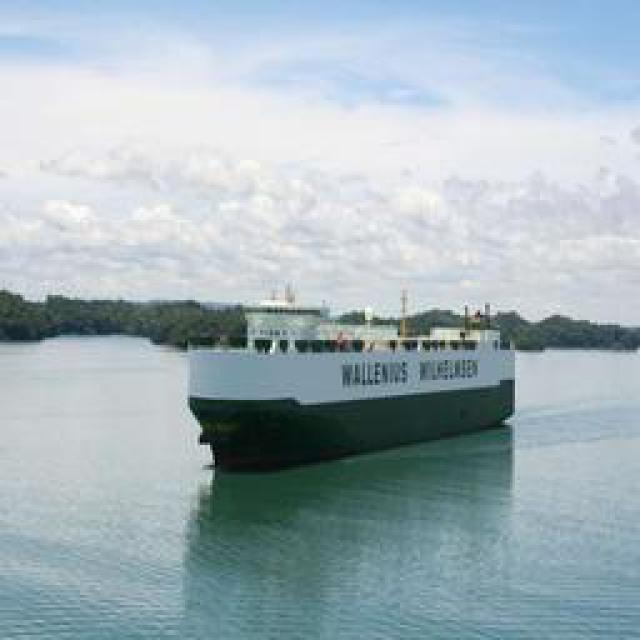Ship: (188, 283, 516, 458)
